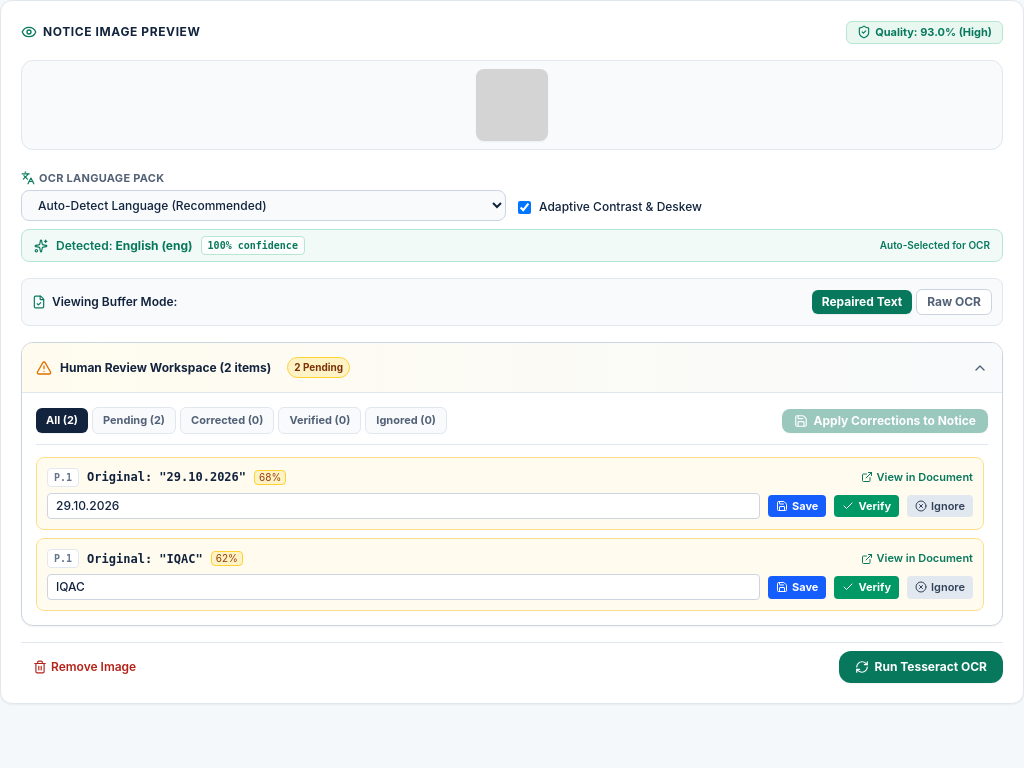
OCR Intelligence & Human Review System › allows user manual language override and shows Reset to Auto action
This screenshot has width=1024, height=768.
Later steps or results of the test are not shown.
Select "Hindi (hin)" in the dropdown at (264, 206), box x1=21 y1=190 x2=506 y2=221
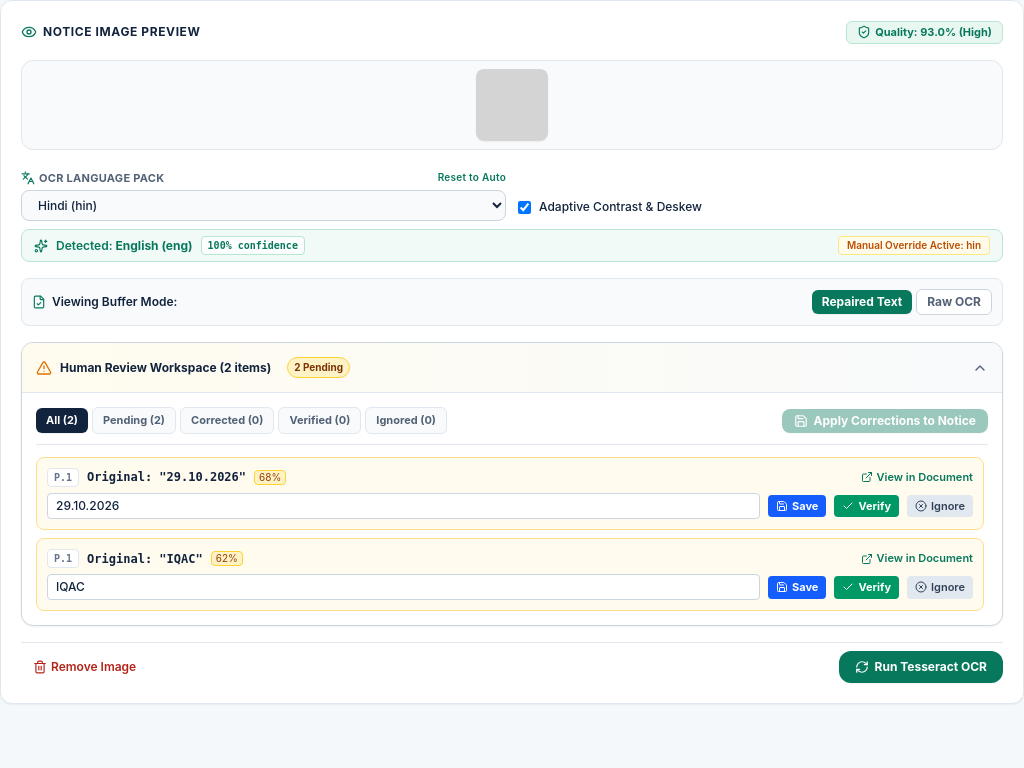
Now the text "Manual Override Active: hin" is shown, box x1=838 y1=236 x2=990 y2=255
